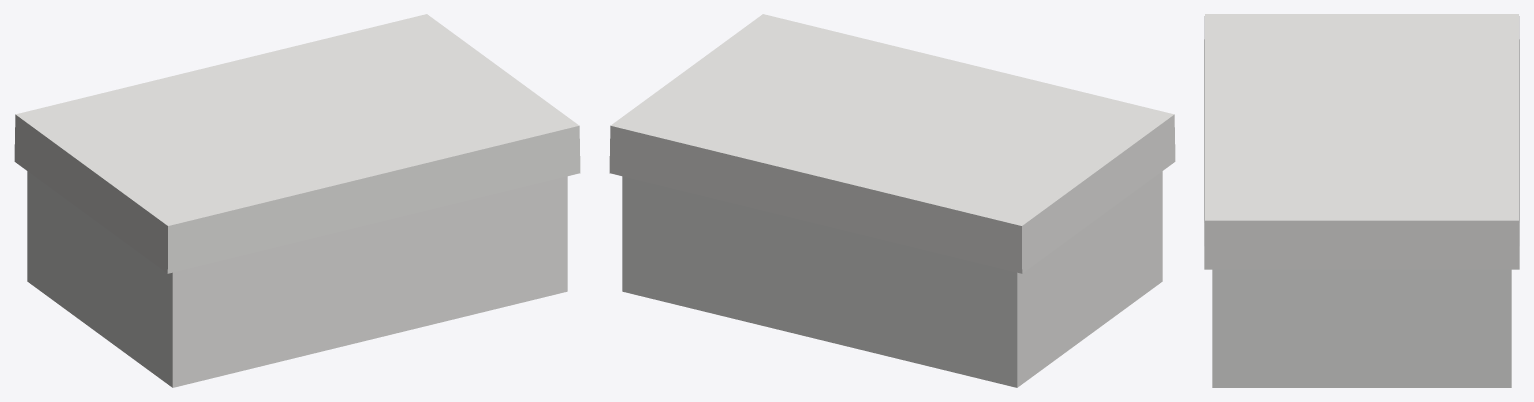
The model's file is SM_carton_06.fbx.
3 renders of one model, left to right at view 1: azimuth 30°, elevation 25°; view 2: azimuth 150°, elevation 25°; view 3: azimuth 270°, elevation 25°, orthographic. The views are drawn at different scales.
Visible parts, largest first — view 1: Object003; view 2: Object003; view 3: Object003.
Boxes of the visible parts, bbox=[...] form: Object003: bbox=[14, 14, 580, 387]; Object003: bbox=[609, 14, 1175, 387]; Object003: bbox=[1204, 14, 1519, 387].
Size of the model in its own units: 26.95 by 17.34 by 10.39.
